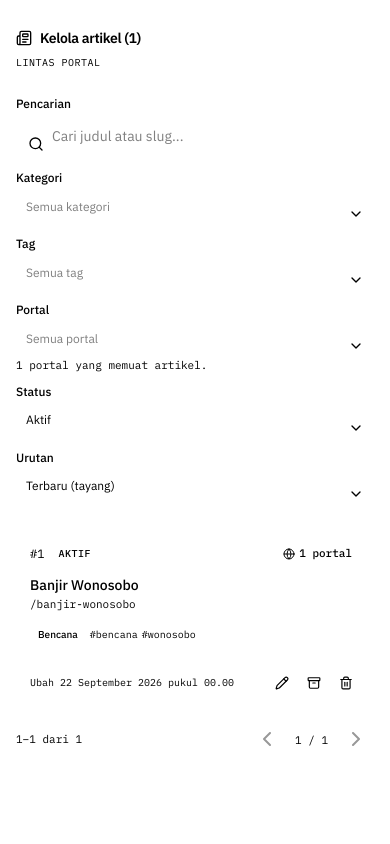
it: ArticleManager › menyaring lewat cari dan kategori
This screenshot has width=390, height=844.
Clear the dropdown labelled "Status": (195, 420) [16, 404, 374, 436]
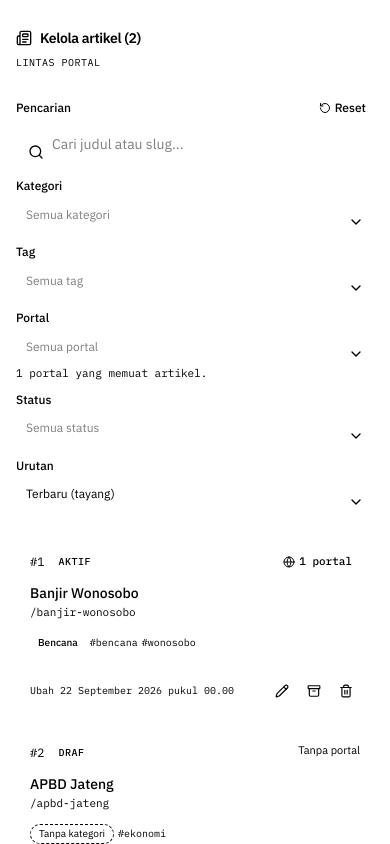
In the field labelled "Pencarian": (195, 144) [16, 126, 374, 162], type "apbd"
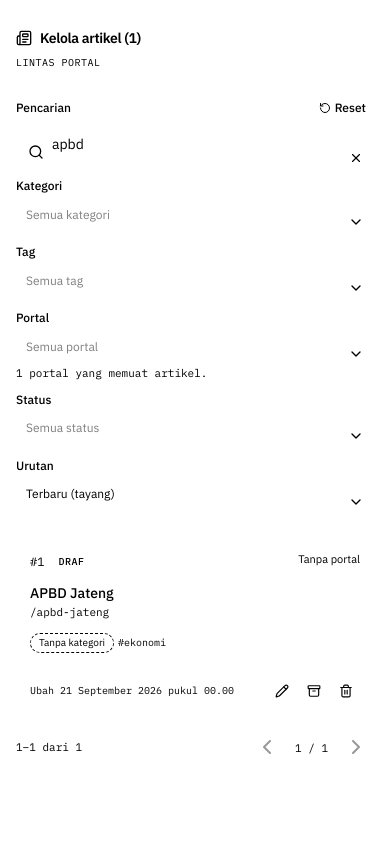
expect the text "APBD Jateng" is shown: met, box [30, 584, 114, 602]
expect the text "Banjir Wonosobo" is gone: met
Clear the field labelled "Pencarian": (195, 144) [16, 126, 374, 162]
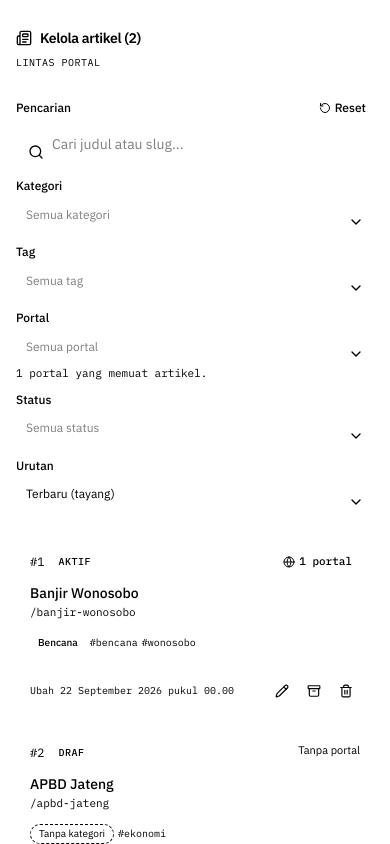
Click the dropdown labelled "Kategori": (195, 214) [16, 198, 374, 230]
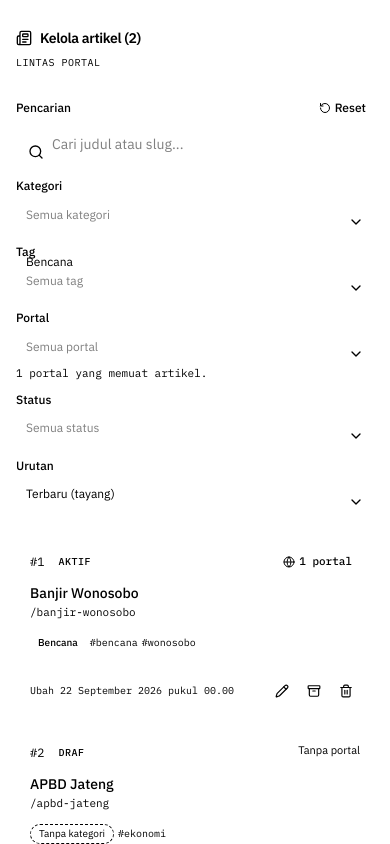
Click the option "Bencana": (49, 262) [26, 254, 73, 269]
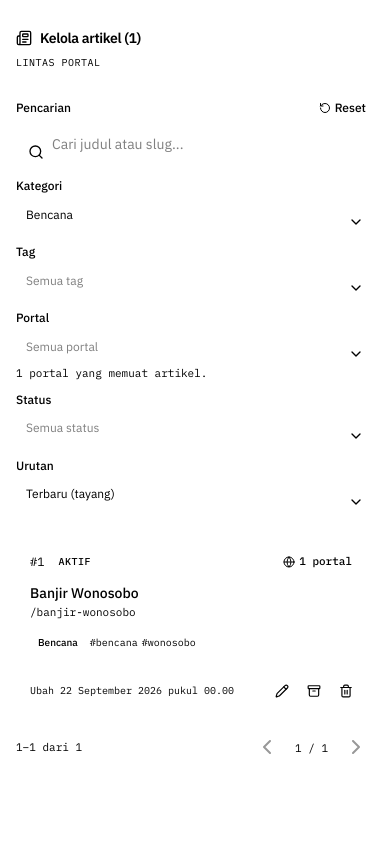
expect the text "Banjir Wonosobo" is shown: met, box [30, 584, 139, 602]
expect the text "APBD Jateng" is gone: met
